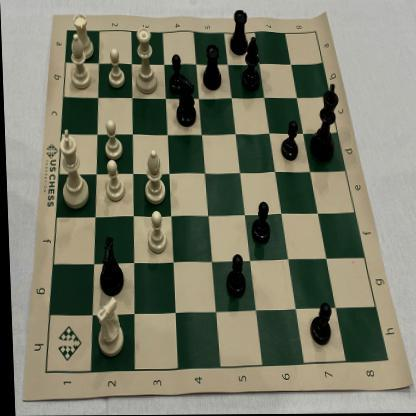black-bishop: (239, 35, 264, 94)
black-king: (305, 79, 341, 166)
black-knight: (93, 235, 128, 297), (172, 74, 201, 132)
black-pawn: (220, 248, 247, 301), (304, 300, 332, 350), (247, 196, 272, 247), (278, 117, 300, 164), (166, 51, 187, 94)
black-rook: (198, 41, 225, 94), (226, 5, 250, 58)
white-bishop: (63, 33, 95, 93), (138, 144, 168, 207)
white-king: (55, 126, 91, 212)
white-knight: (90, 293, 125, 362)
white-pawn: (141, 209, 169, 262), (99, 157, 128, 205), (104, 43, 128, 91), (99, 118, 124, 162)
white-queen: (129, 23, 161, 99)
white-rook: (69, 12, 97, 68)
